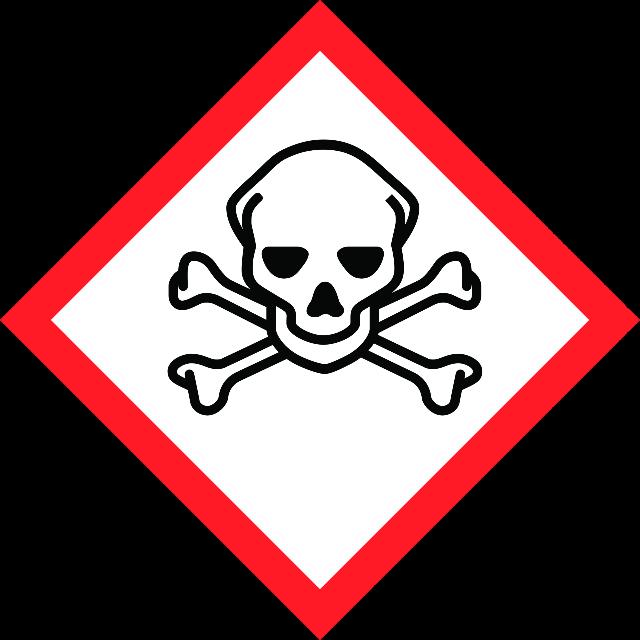acute toxicity: (166, 140, 484, 416)
